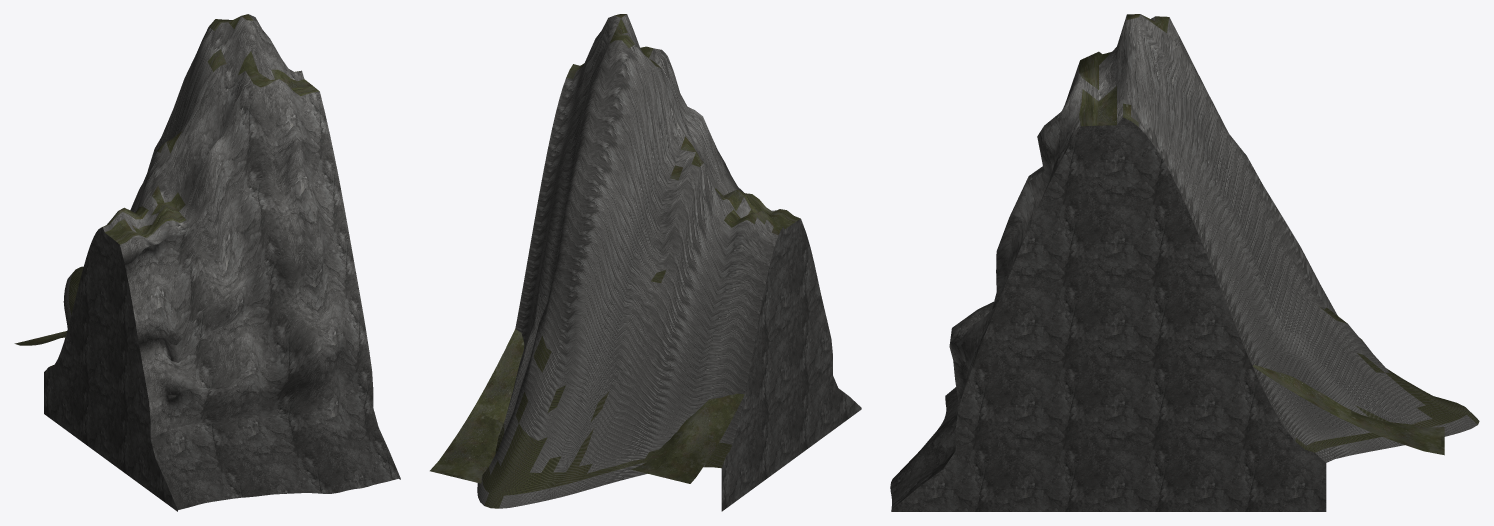
The model's file is seacliff_step_h5h8_v5_summer.glb.
3 renders of one model, left to right at view 1: azimuth 30°, elevation 25°; view 2: azimuth 150°, elevation 25°; view 3: azimuth 270°, elevation 25°, orthographic. The views are drawn at different scales.
Parts seen in each view (by area): view 1: seacliff_step_h5h8; view 2: seacliff_step_h5h8; view 3: seacliff_step_h5h8.
Part boxes in pixels (x1=…): seacliff_step_h5h8: x1=14, y1=14, x2=400, y2=511; seacliff_step_h5h8: x1=430, y1=14, x2=861, y2=511; seacliff_step_h5h8: x1=890, y1=14, x2=1479, y2=511.
Size of the model in its own units: 6 by 11.48 by 13.09.
Materials: 2 (2 with a texture image).
